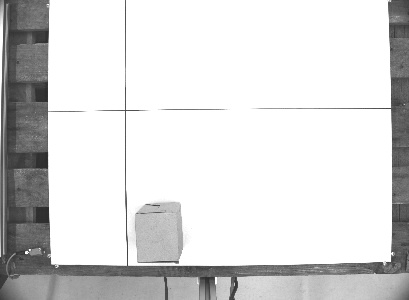b5: (132, 199, 185, 264)
